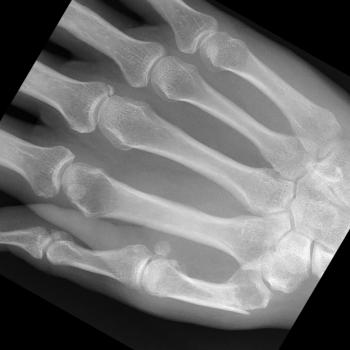Fracture: (210, 276, 253, 319)
